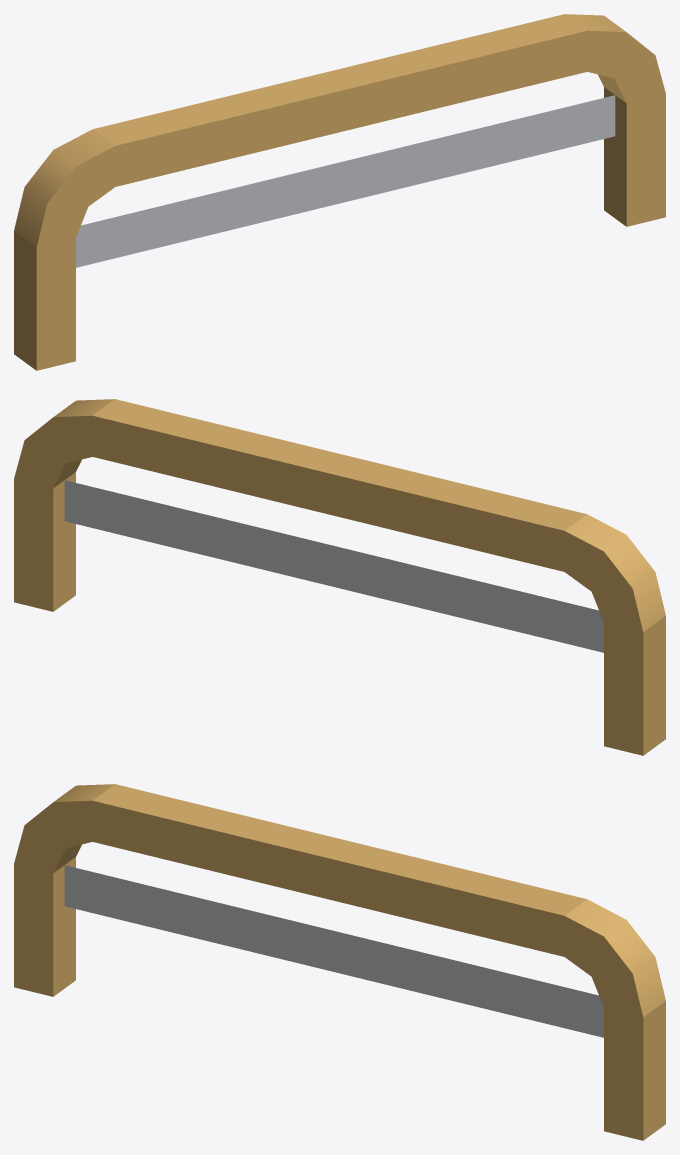
File: rail.glb
3 views of the same model, one above another, from view 1: azimuth 30°, elevation 25°; view 2: azimuth 150°, elevation 25°; view 3: azimuth 330°, elevation 25° (orthographic).
Visible parts, largest first — view 1: rail; view 2: rail; view 3: rail.
Boxes of the visible parts, left/top/right/bottom form: rail: left=14, top=14, right=665, bottom=370; rail: left=14, top=399, right=665, bottom=755; rail: left=14, top=784, right=665, bottom=1140.
Size of the model in its own units: 0.8 by 0.25 by 0.05.
